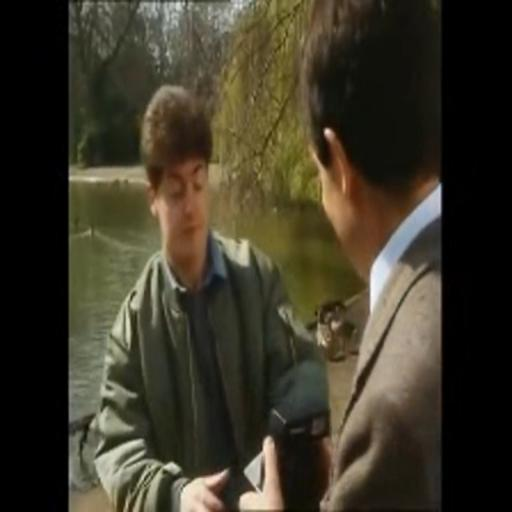nao-violencia: (78, 0, 443, 512)
